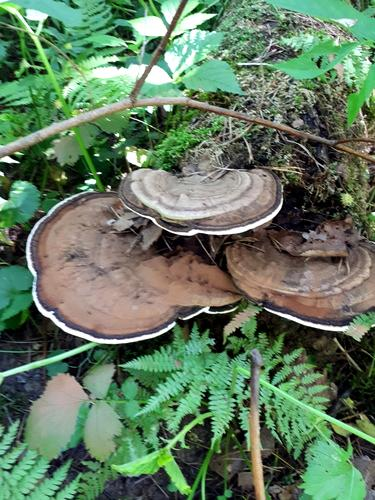Ganoderma - Fruit Body: (28, 167, 375, 345)
